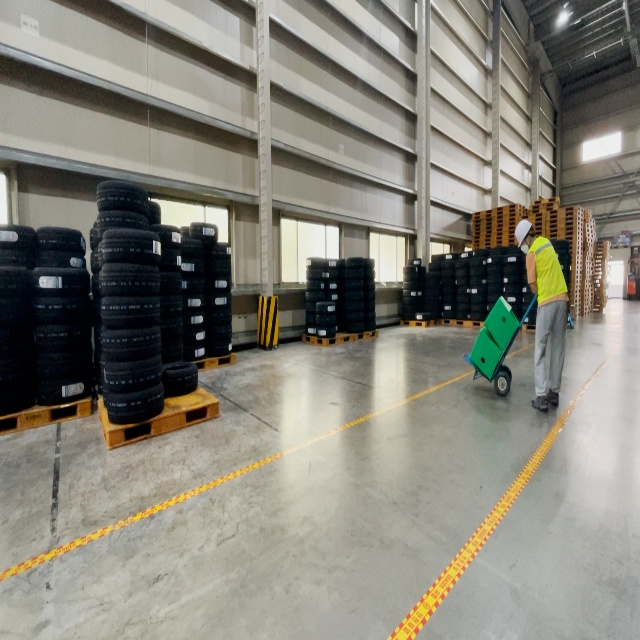Box: (483, 294, 520, 353), (469, 325, 503, 381)
Worker: (513, 217, 570, 413)
